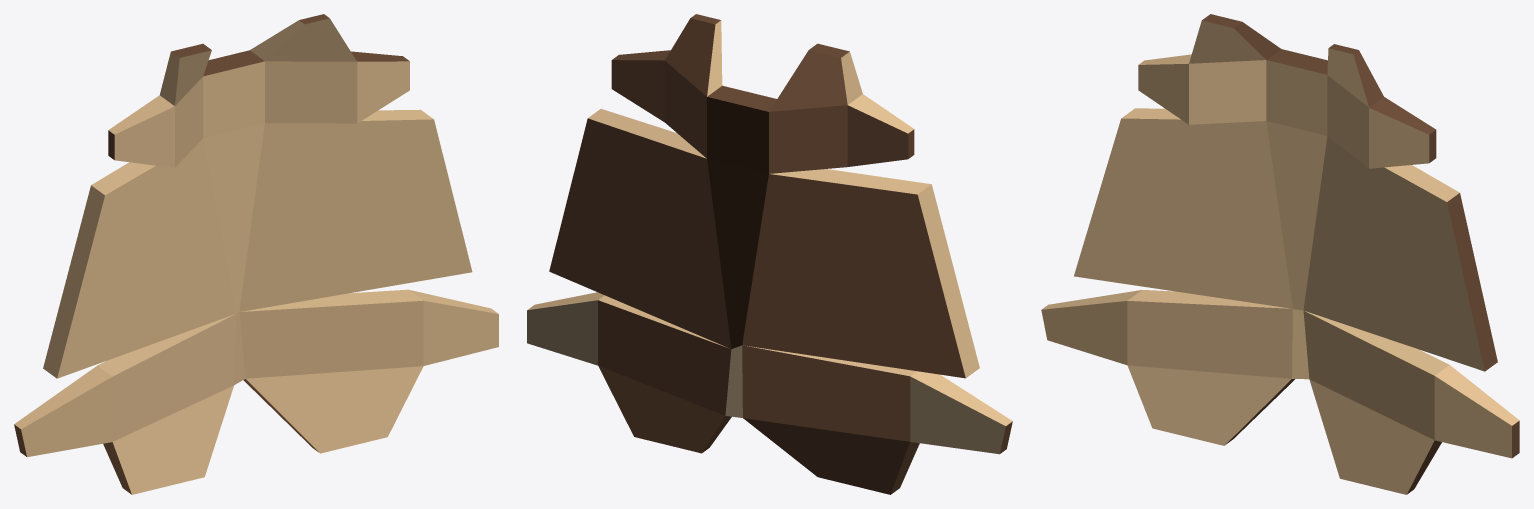
The model's file is animal_hide.fbx.
The picture shows the model from 3 angles, left to right: view 1: azimuth 30°, elevation 25°; view 2: azimuth 150°, elevation 25°; view 3: azimuth 330°, elevation 25°; orthographic projection.
Parts seen in each view (by area): view 1: Cube; view 2: Cube; view 3: Cube.
Boxes of the visible parts, x1,y1,x2,y2 form: Cube: (14, 14, 498, 494); Cube: (527, 14, 1012, 494); Cube: (1041, 14, 1519, 494).
Bounding box in the file's own units: 228 × 197 × 33.88.
